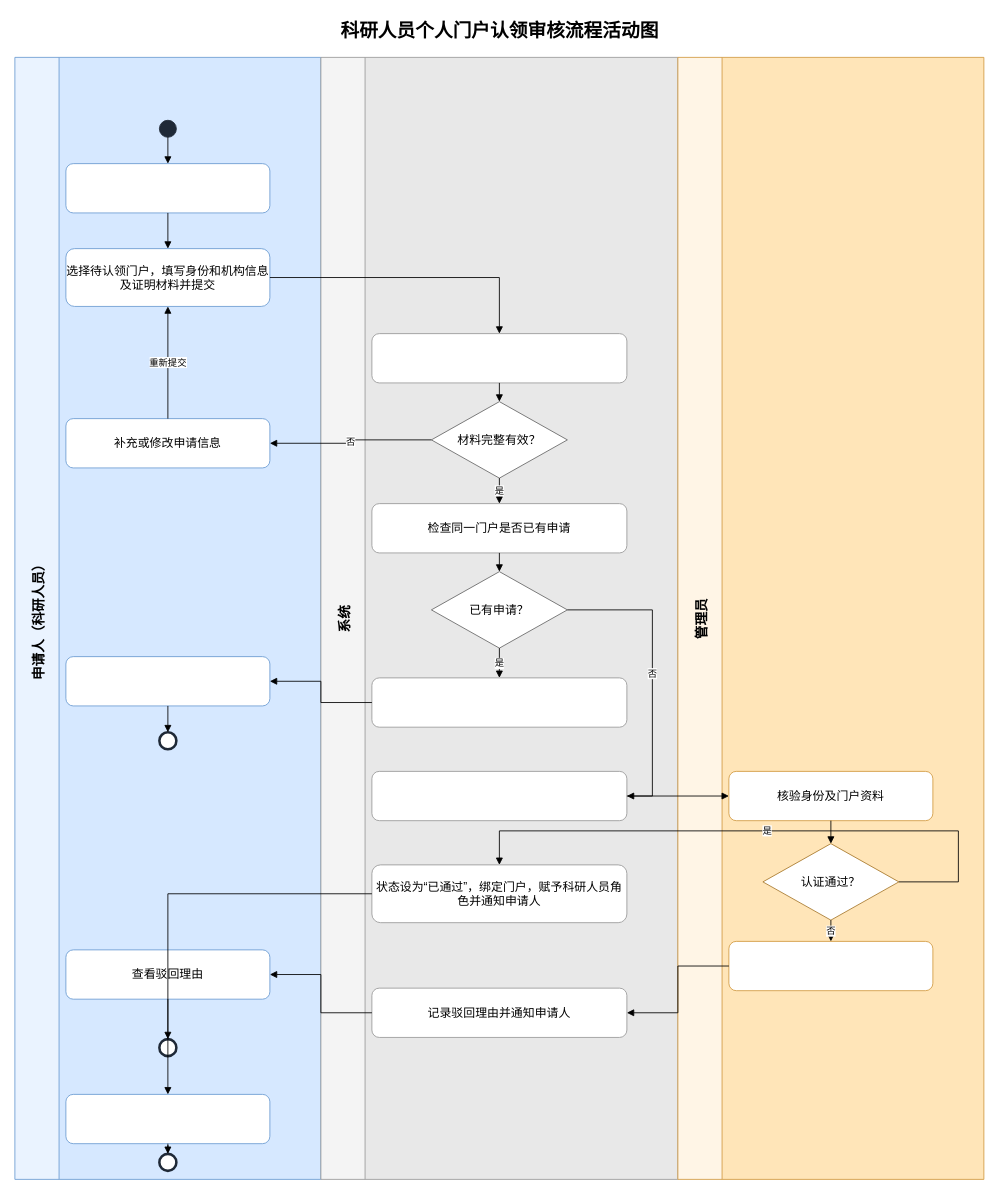
This 999x1194 diagram has some shape labels left out. The shapes that lost their labels are listed below. From the top down, each one's centre as x and y in pixels, then its label:
At [167,188]: "登录并进入门户认领".
At [499,358]: "校验必填信息、材料格式和权限".
At [167,681]: "查看已有申请状态".
At [499,702]: "提示已有申请并返回当前状态".
At [499,796]: "保存申请，状态设为“待审核”".
At [830,966]: "填写驳回理由".
At [167,1119]: "进入个人门户并维护成果".
